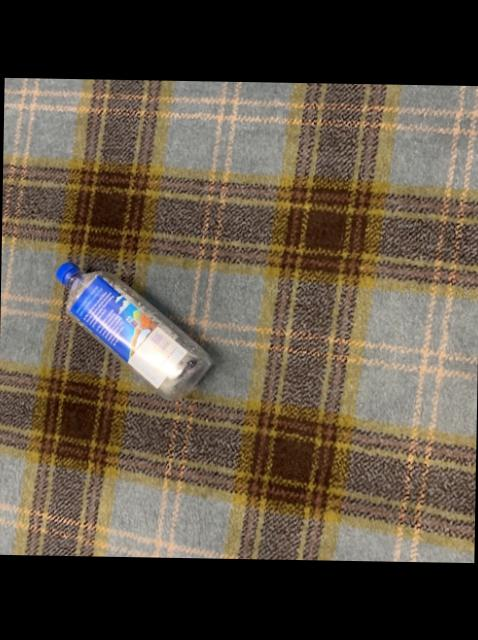plastic: (55, 263, 209, 400)
